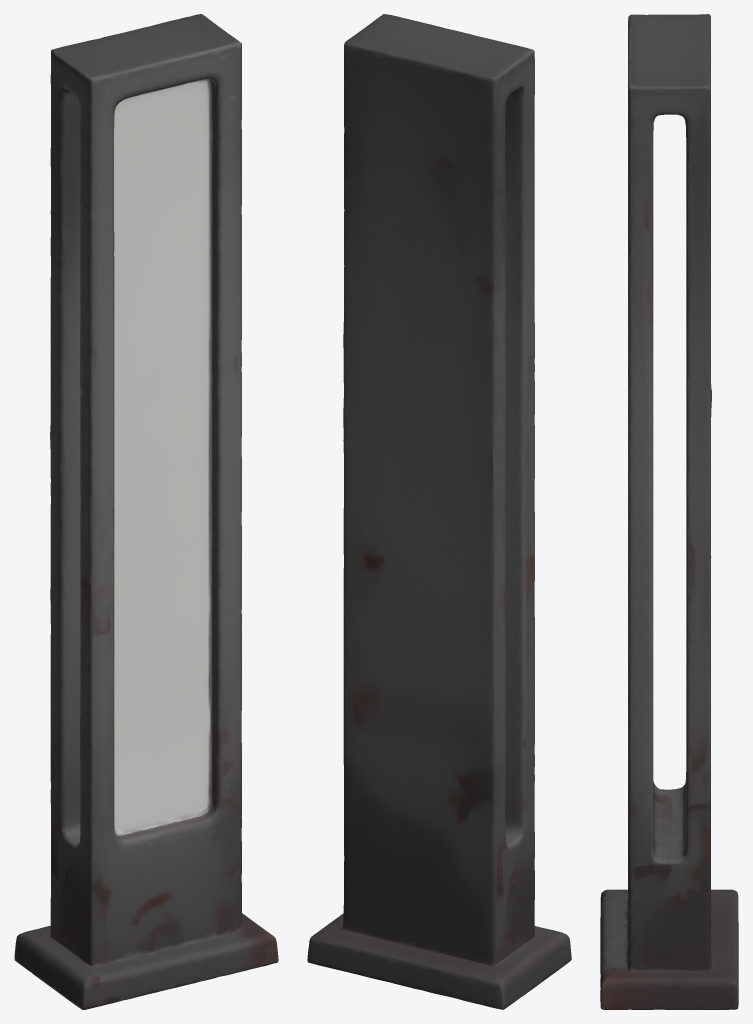
File: foyer_LightingColumn.glb
The picture shows the model from 3 angles, left to right: view 1: azimuth 30°, elevation 25°; view 2: azimuth 150°, elevation 25°; view 3: azimuth 270°, elevation 25°; orthographic projection.
Visible parts, largest first — view 1: world; view 2: world; view 3: world.
Part boxes in pixels (left/top/right/bottom): world: left=14, top=14, right=278, bottom=1009; world: left=307, top=14, right=571, bottom=1009; world: left=600, top=14, right=738, bottom=1009.
Bounding box in the file's own units: 0.2258 × 1 × 0.1374.
1 material, 1 textured.
